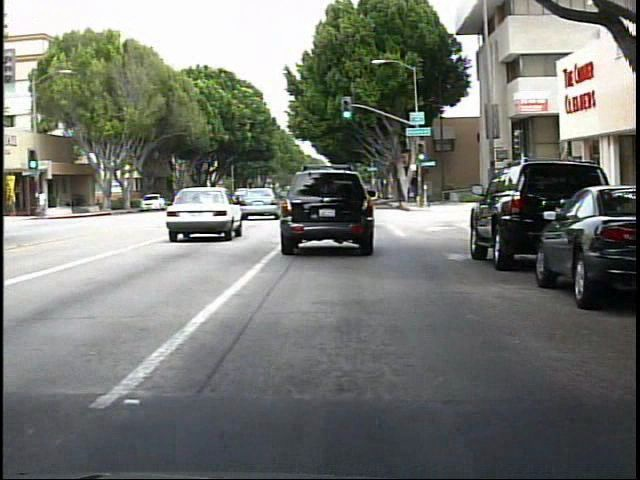person: (41, 187, 52, 218)
